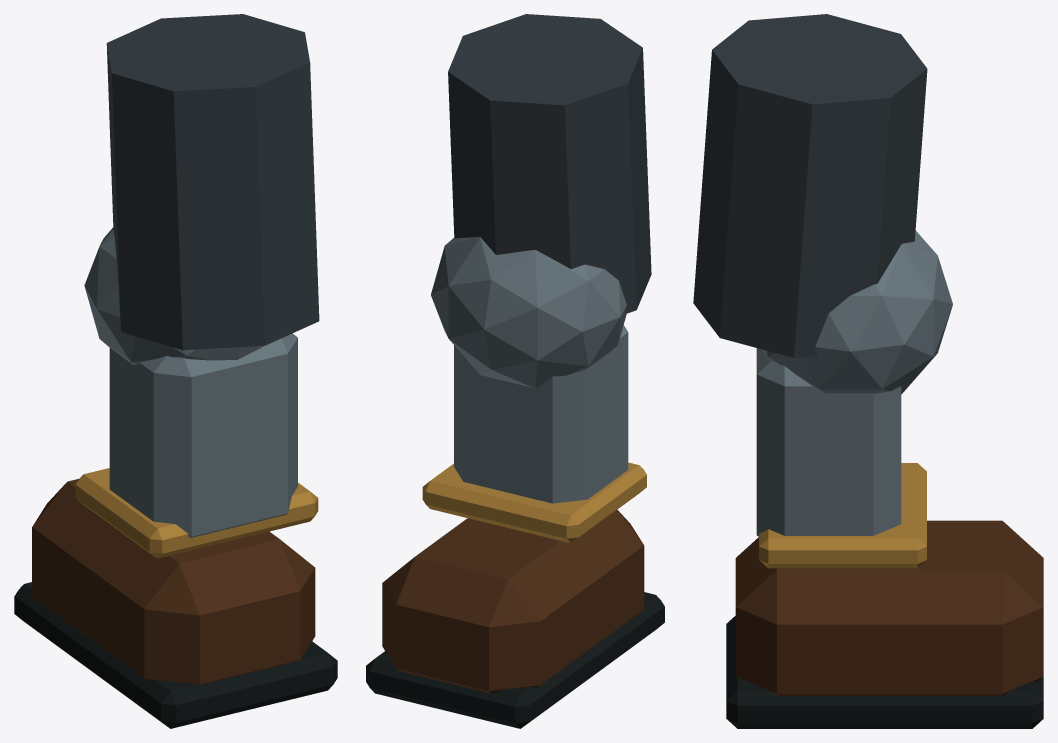
The model's file is LegLeft.glb.
The picture shows the model from 3 angles, left to right: view 1: azimuth 30°, elevation 25°; view 2: azimuth 150°, elevation 25°; view 3: azimuth 270°, elevation 25°; orthographic projection. The views are drawn at different scales.
Parts seen in each view (by area): view 1: Sculpture; view 2: Sculpture; view 3: Sculpture.
Boxes of the visible parts, x1=… form: Sculpture: x1=14, y1=14, x2=337, y2=728; Sculpture: x1=366, y1=14, x2=664, y2=728; Sculpture: x1=693, y1=14, x2=1043, y2=728.
Bounding box in the file's own units: 0.24 × 0.7542 × 0.3755.
